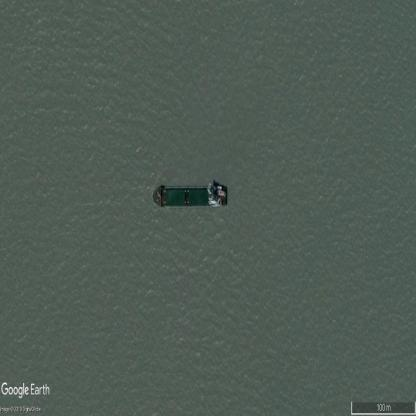ship: (153, 182, 228, 212)
